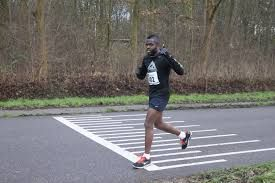no-mask: (139, 33, 167, 54)
